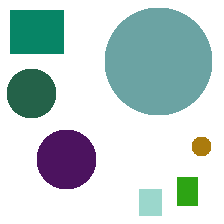circle: (105, 8, 211, 114), (37, 130, 95, 188), (7, 69, 55, 117), (192, 137, 210, 155)
rectangle: (10, 10, 63, 53), (139, 189, 161, 215), (177, 177, 197, 205)
